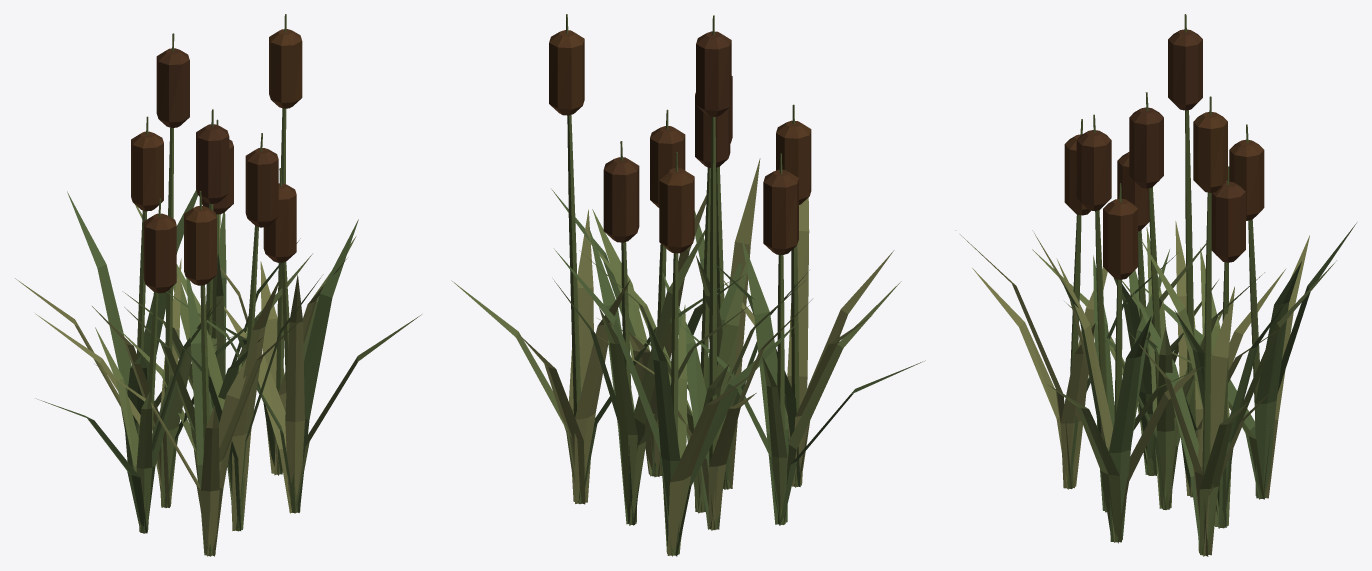
File: shore-cattail.glb
3 views of the same model, side by side, from view 1: azimuth 30°, elevation 25°; view 2: azimuth 150°, elevation 25°; view 3: azimuth 270°, elevation 25° (orthographic). The views are drawn at different scales.
Visible parts, largest first — view 1: Cattails / brown seed heads and arching sword leaves.001; view 2: Cattails / brown seed heads and arching sword leaves.001; view 3: Cattails / brown seed heads and arching sword leaves.001.
Boxes of the visible parts, <box> form: Cattails / brown seed heads and arching sword leaves.001: <box>15,14,421,556</box>; Cattails / brown seed heads and arching sword leaves.001: <box>451,14,925,556</box>; Cattails / brown seed heads and arching sword leaves.001: <box>955,14,1356,556</box>.
Size of the model in its own units: 1.47 by 1.74 by 1.31.
